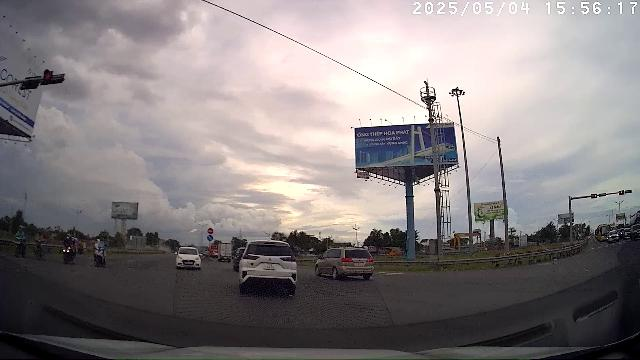102-cam-di-nguoc-chieu: (207, 228, 214, 234)
302a-huong-phai-di-vong-chuong-ngai-vat-1: (207, 235, 213, 241)
